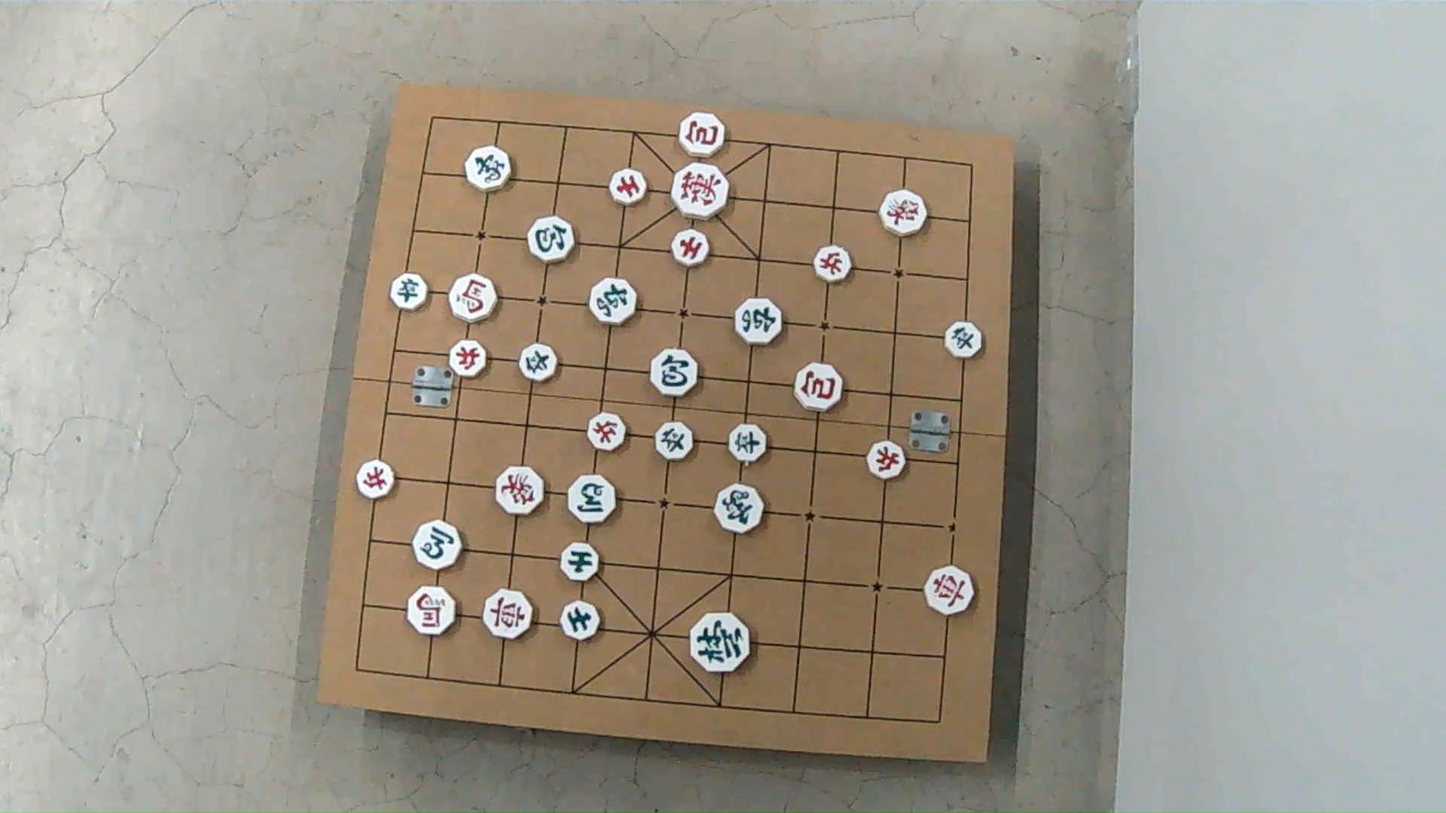cha_green: (734, 298, 782, 346), (592, 279, 639, 325)
cha_red: (481, 591, 531, 641), (926, 568, 975, 616)
jol_green: (520, 344, 559, 382), (389, 273, 429, 310), (730, 425, 769, 462), (654, 423, 691, 461), (946, 324, 984, 360)
jol_red: (865, 443, 906, 481), (355, 461, 392, 501), (449, 339, 487, 377), (812, 247, 850, 284), (589, 415, 627, 452)
ma_green: (411, 521, 459, 570), (567, 476, 615, 524)
ma_red: (407, 586, 456, 635), (450, 273, 498, 321)
po_green: (526, 215, 576, 263), (648, 350, 697, 397)
po_red: (793, 365, 841, 412), (681, 113, 726, 157)
sa_green: (560, 601, 598, 641), (562, 542, 601, 580)
sa_red: (671, 229, 709, 266), (610, 169, 647, 205)
sang_green: (715, 481, 764, 531), (465, 145, 511, 190)
sang_red: (495, 465, 542, 514), (878, 192, 926, 237)
wang_green: (691, 614, 751, 674)
wang_red: (670, 162, 727, 218)
